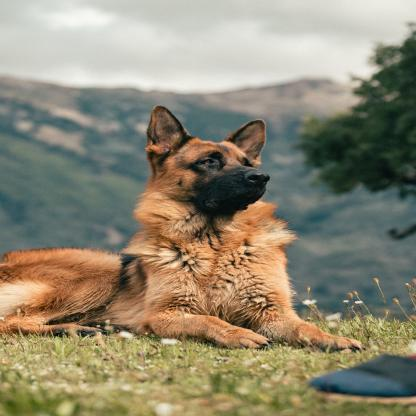german shepherd: (1, 106, 356, 356)
